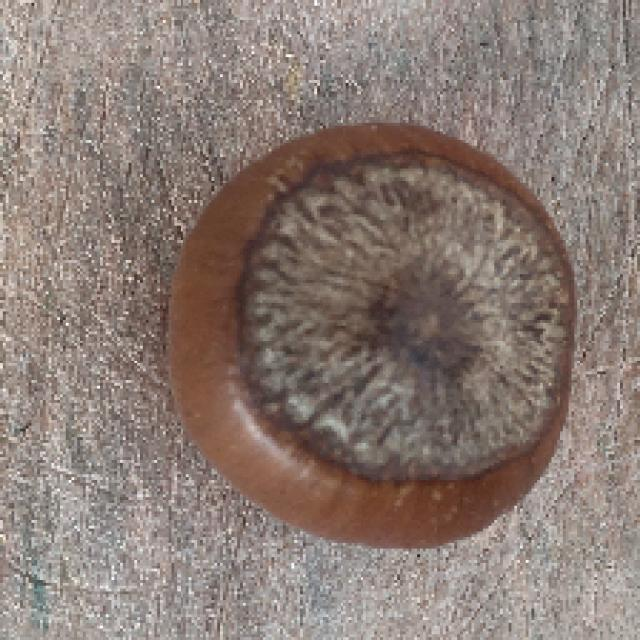qualityHazelnut: (163, 119, 577, 552)
